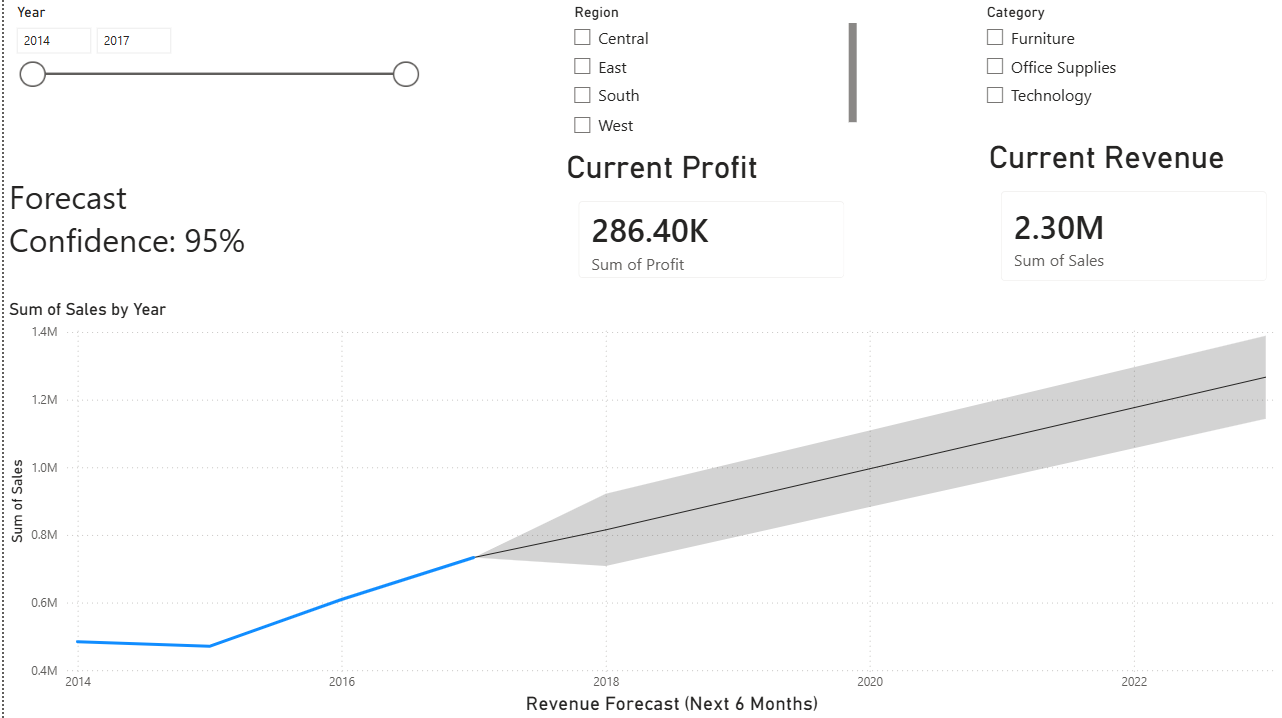

What the dashboard file says about the page in this screenshot:
{"tool":"powerbi","page":{"name":"Forecasting","canvas":[1280,720],"ordinal":4},"visuals":[{"type":"lineChart","fields":{"Category":["processed_sales.Order Date.Variation.Date Hierarchy.Year","processed_sales.Order Date.Variation.Date Hierarchy.Quarter","processed_sales.Order Date.Variation.Date Hierarchy.Month","processed_sales.Order Date.Variation.Date Hierarchy.Day"],"Y":["Sum(processed_sales.Sales)"]},"box":[0,300,1280,420],"z":0},{"type":"cardVisual","title":"Current Revenue","fields":{"Data":["Sum(processed_sales.Sales)"]},"box":[980,140,300,160],"z":1000},{"type":"cardVisual","title":"Current Profit","fields":{"Data":["Sum(processed_sales.Profit)"]},"box":[557.1,150,300,147.1],"z":2000},{"type":"textbox","box":[0,171.4,422.9,125.7],"z":3000},{"type":"slicer","fields":{"Values":["processed_sales.Year"]},"box":[0,0,422.9,171.4],"z":4000},{"type":"slicer","fields":{"Values":["processed_sales.Region"]},"box":[557.1,0,300,140],"z":5000},{"type":"slicer","fields":{"Values":["processed_sales.Category"]},"box":[970,0,310,144.3],"z":6000}]}

Visuals, with their boxes in screenshot pixels (x1, y1, x2, y2), scaled from the page's 1280x720 canvas onto the 1282x718 screenshot:
lineChart - processed_sales.Order Date.Variation.Date Hierarchy.Year x processed_sales.Order Date.Variation.Date Hierarchy.Quarter: detection(0, 299, 1281, 717)
"Current Revenue" cardVisual: detection(982, 140, 1281, 299)
"Current Profit" cardVisual: detection(558, 150, 858, 296)
textbox: detection(0, 171, 424, 296)
slicer - processed_sales.Year: detection(0, 0, 424, 171)
slicer - processed_sales.Region: detection(558, 0, 858, 140)
slicer - processed_sales.Category: detection(972, 0, 1281, 144)
